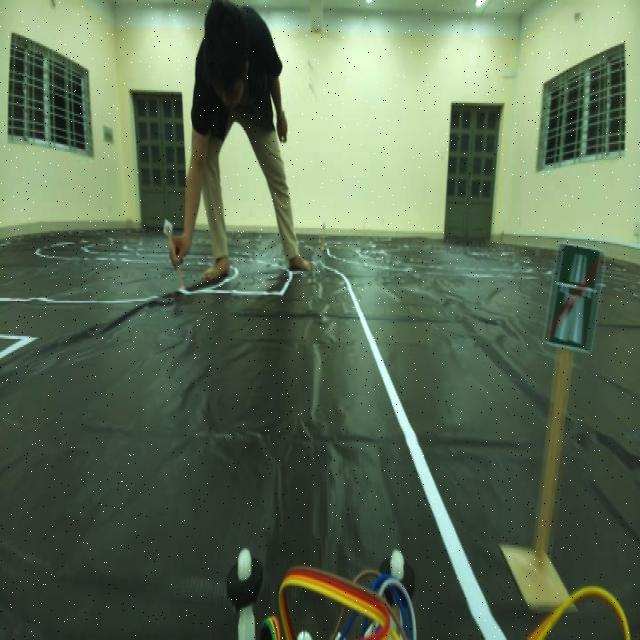highway_exit: (544, 234, 603, 362)
